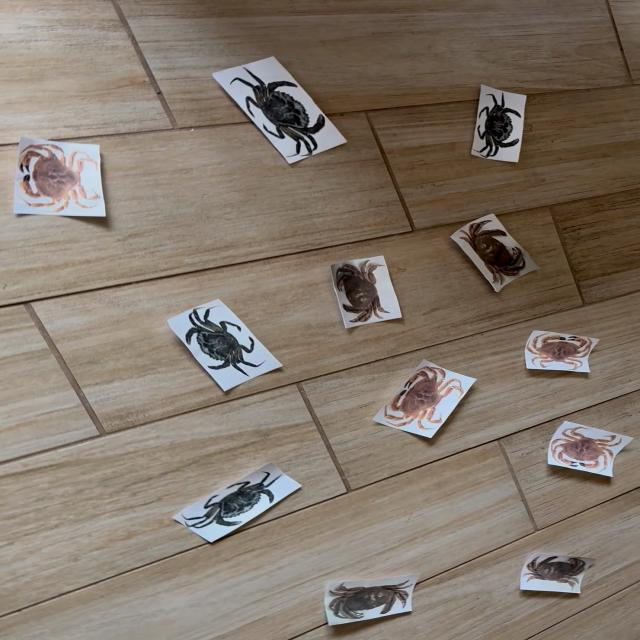egc: (173, 463, 300, 542), (169, 300, 280, 390), (232, 70, 328, 152), (472, 96, 521, 158)
